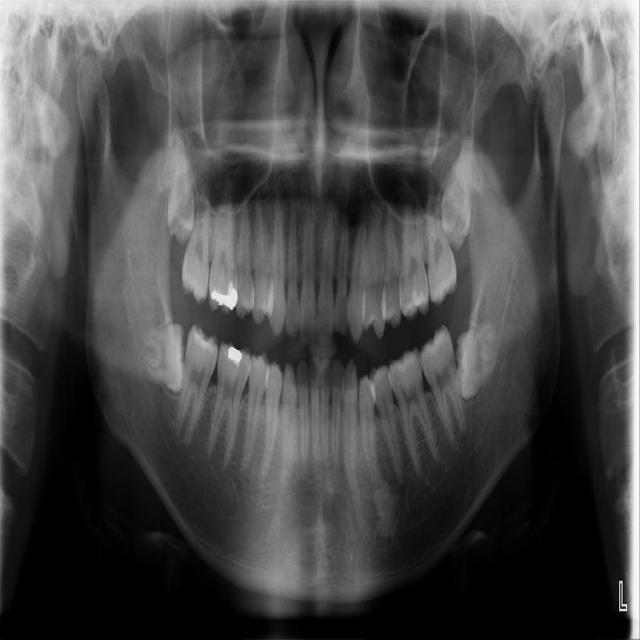3M ESPE Implant: (167, 118, 197, 247)
52: (176, 321, 227, 386), (207, 338, 258, 393), (206, 261, 241, 316), (398, 260, 429, 321)
73: (616, 562, 625, 562)
BioHorizons Implant: (419, 169, 459, 306)
BioLife Implant: (436, 129, 480, 253)
Biomet 3i Implant: (454, 323, 498, 399)
Blue Sky Bio Implant: (414, 323, 470, 449)
Caries: (180, 167, 213, 305)
Implant: (170, 321, 224, 447)
Keystone Dental Implant: (142, 322, 187, 392)
